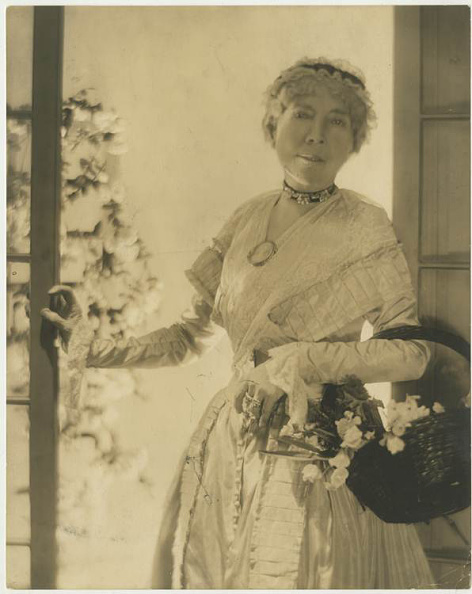em pe: (155, 41, 447, 549)
